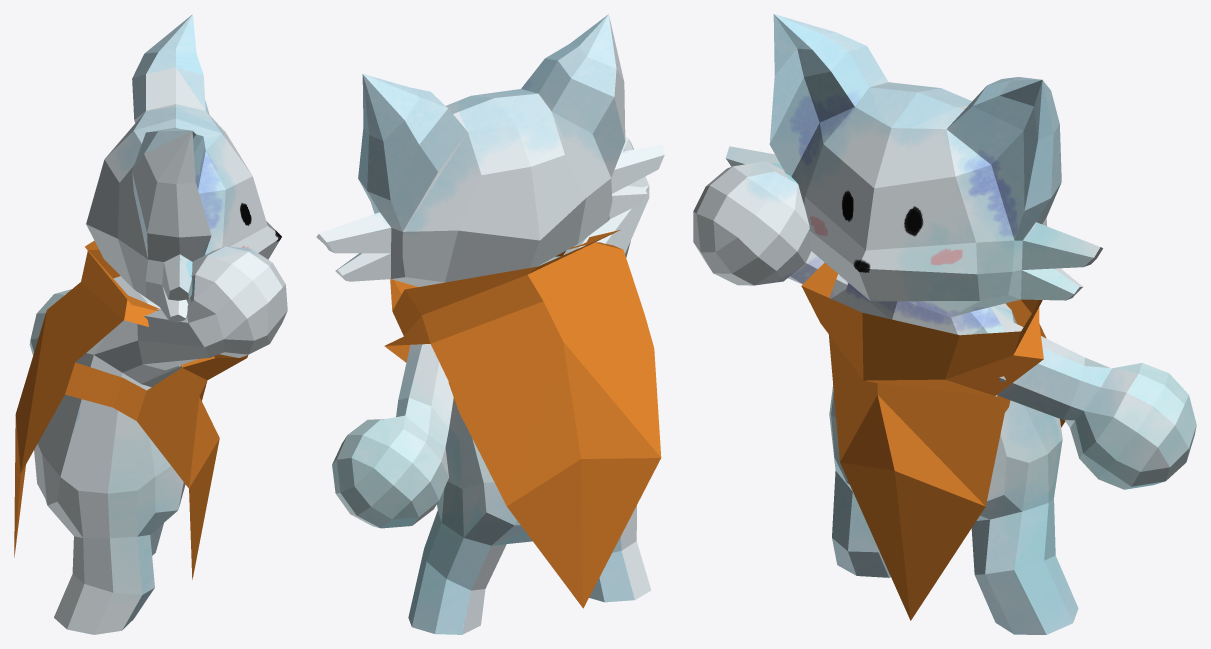
Rendered from fox.glb.
The picture shows the model from 3 angles, left to right: view 1: azimuth 30°, elevation 25°; view 2: azimuth 150°, elevation 25°; view 3: azimuth 270°, elevation 25°; orthographic projection. The views are drawn at different scales.
Parts seen in each view (by area): view 1: V1.002; view 2: V1.002; view 3: V1.002.
Boxes of the visible parts, <box> form: V1.002: <box>14,14,287,634</box>; V1.002: <box>316,14,664,634</box>; V1.002: <box>693,14,1196,634</box>.
Size of the model in its own units: 0.23 by 0.4485 by 0.3516.
2 materials, 1 textured.
